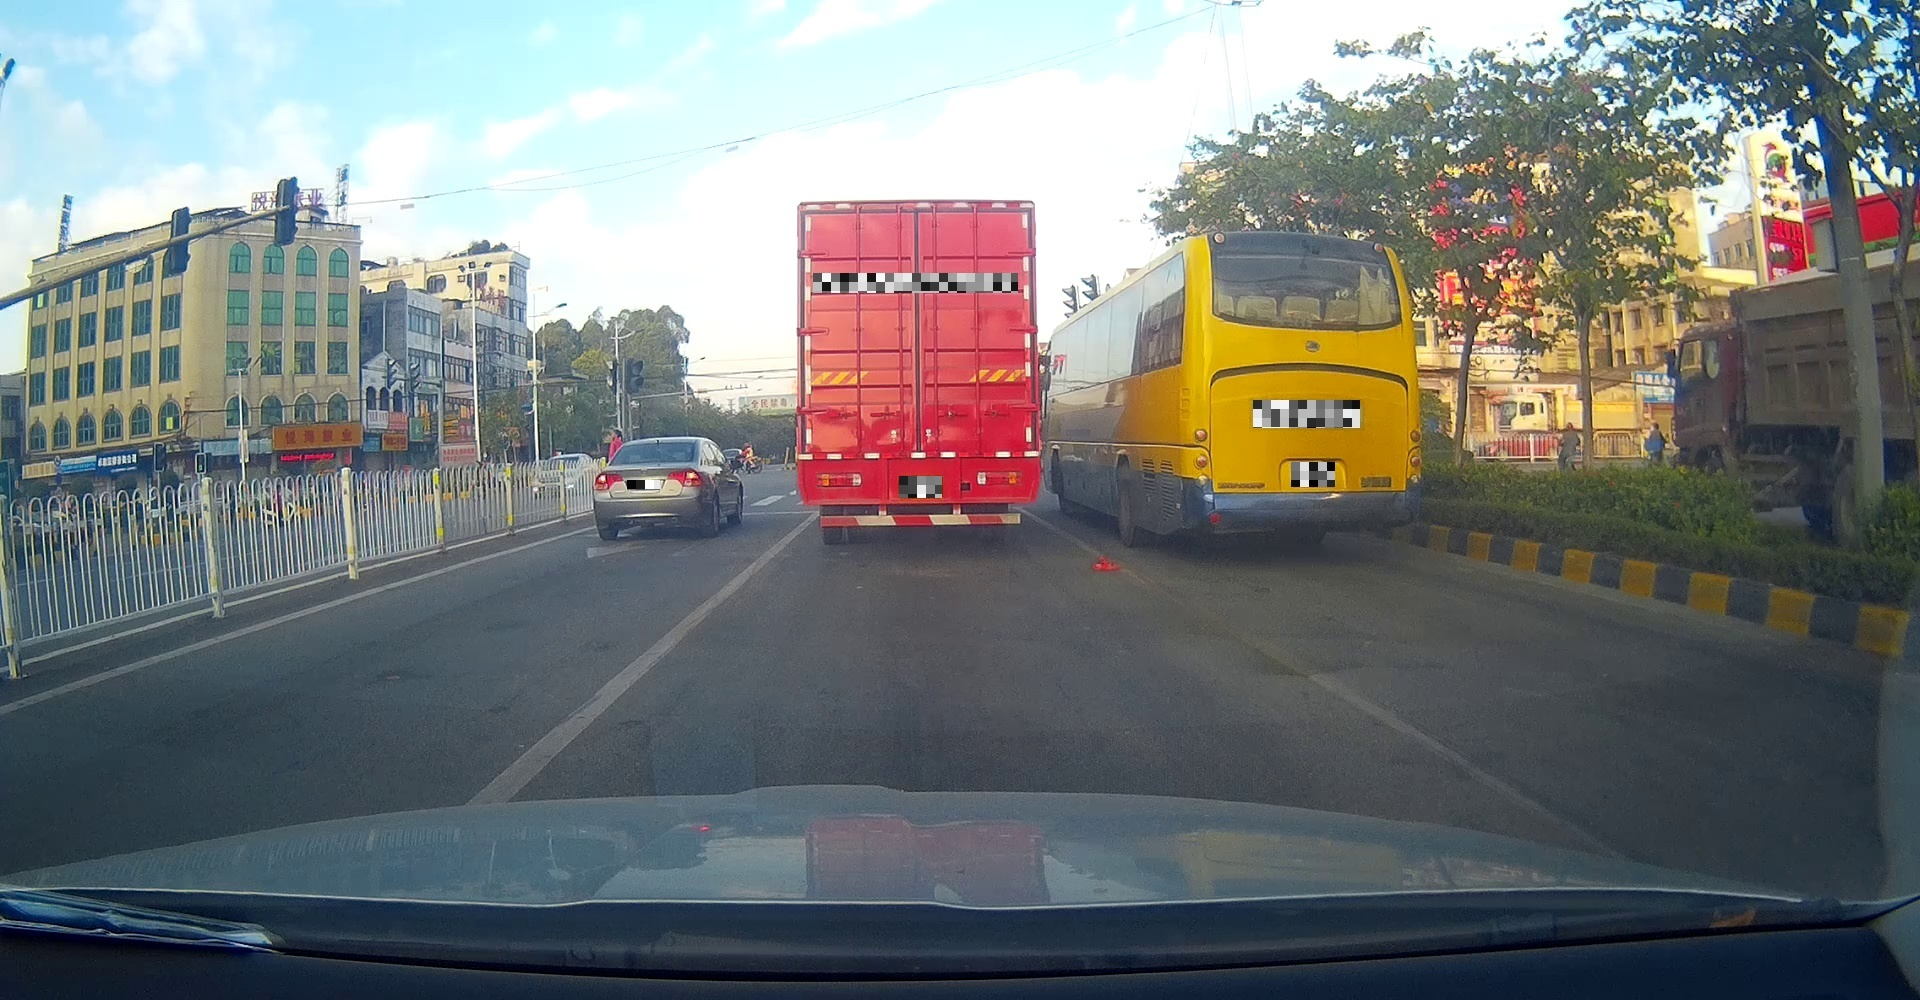L_light: (1192, 426, 1210, 489), (592, 470, 625, 491), (817, 473, 861, 487)
R_light: (1408, 428, 1422, 485), (665, 468, 703, 487), (977, 471, 1023, 485)
T_light: (1285, 313, 1346, 331), (902, 211, 935, 225), (648, 443, 663, 451)
day-brake: (592, 437, 703, 541)
day-no: (795, 201, 1040, 544), (1192, 230, 1422, 549)
plate_1: (627, 480, 660, 490)
plate_2: (813, 273, 1018, 293)
plate_3: (899, 476, 942, 497)
plate_4: (1253, 400, 1360, 428)
plate_5: (1291, 462, 1335, 487)
